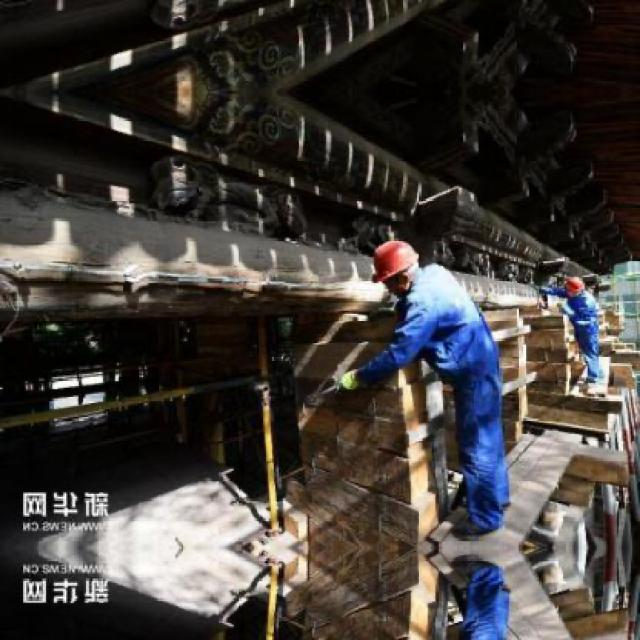helmet: (368, 236, 422, 296), (565, 272, 589, 297)
